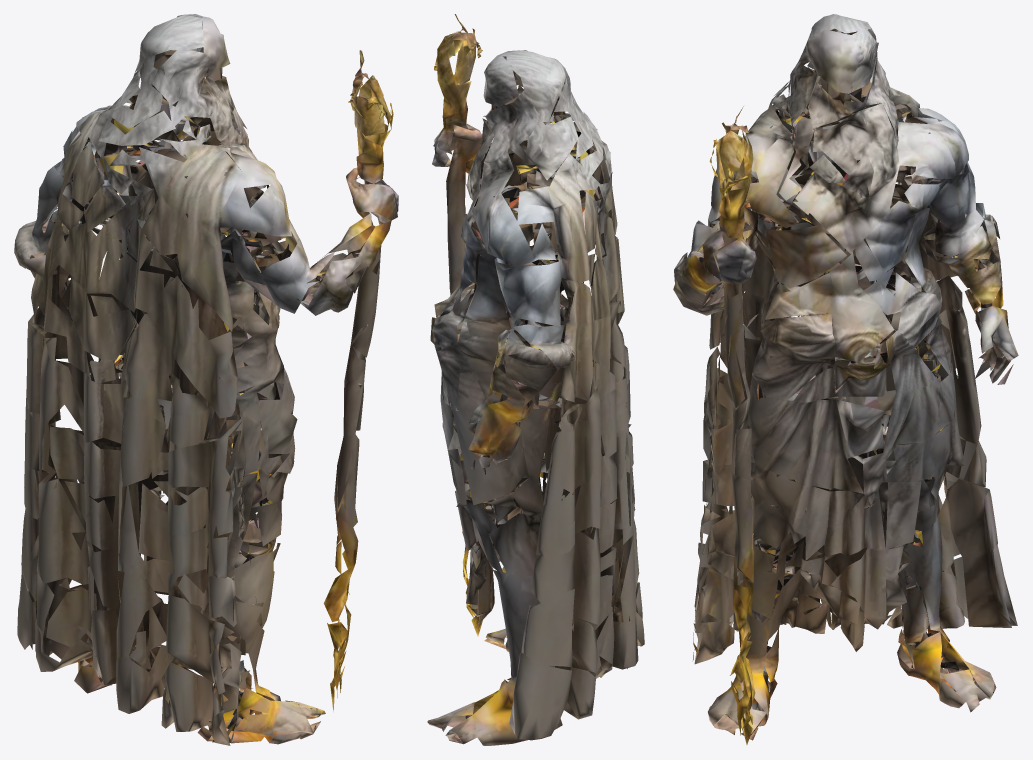
File: zeus_god.glb
3 views of the same model, side by side, from view 1: azimuth 30°, elevation 25°; view 2: azimuth 150°, elevation 25°; view 3: azimuth 270°, elevation 25° (orthographic). The views are drawn at different scales.
Visible parts, largest first — view 1: Object_5, Object_4, Object_6, Object_7; view 2: Object_4, Object_5, Object_6, Object_7; view 3: Object_4, Object_5, Object_6, Object_7.
Boxes of the visible parts, left/top/right/bottom form: Object_5: left=17, top=14, right=398, bottom=745; Object_4: left=20, top=14, right=390, bottom=744; Object_6: left=14, top=47, right=397, bottom=743; Object_7: left=27, top=50, right=393, bottom=735; Object_4: left=433, top=31, right=644, bottom=745; Object_5: left=430, top=41, right=642, bottom=740; Object_6: left=427, top=32, right=638, bottom=731; Object_7: left=434, top=14, right=626, bottom=678; Object_4: left=674, top=27, right=1018, bottom=734; Object_5: left=673, top=14, right=1017, bottom=728; Object_6: left=687, top=28, right=1013, bottom=735; Object_7: left=683, top=76, right=1003, bottom=744.
Size of the model in its own units: 1.47 by 3.62 by 1.67.
1 material, 1 textured.
